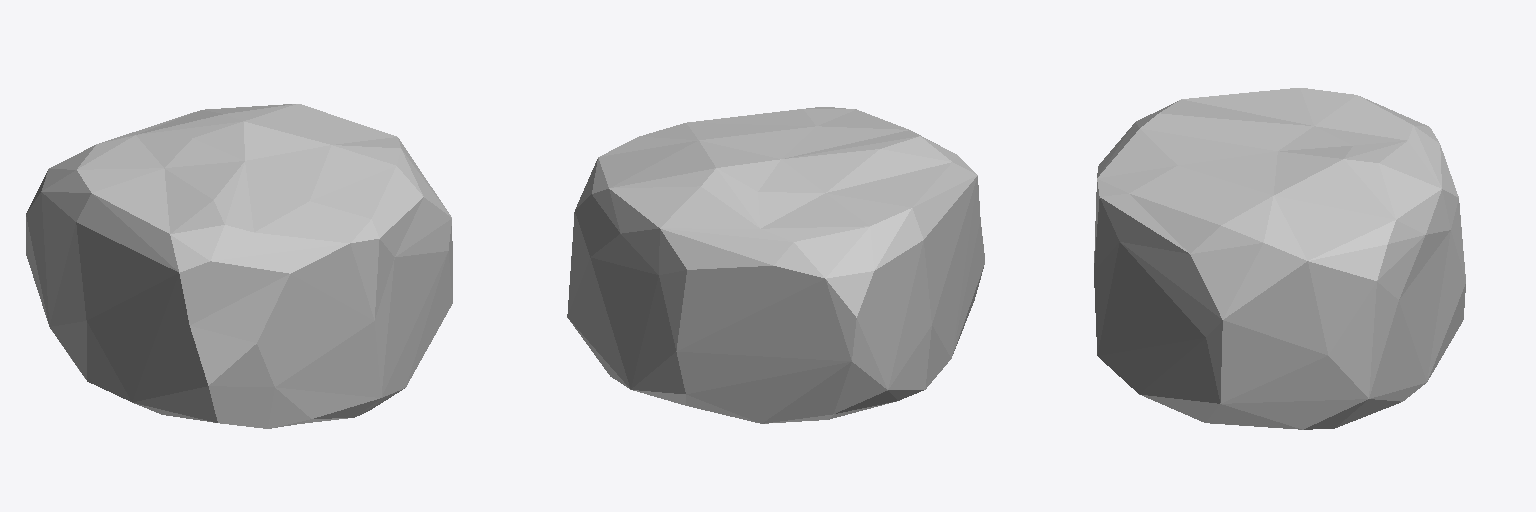
File: single_rock.obj
The picture shows the model from 3 angles: view 1: azimuth 30°, elevation 25°; view 2: azimuth 150°, elevation 25°; view 3: azimuth 270°, elevation 25°; orthographic projection.
Visible parts, largest first — view 1: smallrock5_smallrocks_0_smallrock5_smallrocks_0.001; view 2: smallrock5_smallrocks_0_smallrock5_smallrocks_0.001; view 3: smallrock5_smallrocks_0_smallrock5_smallrocks_0.001.
Boxes of the visible parts, <box> form: smallrock5_smallrocks_0_smallrock5_smallrocks_0.001: <box>26,104,452,428</box>; smallrock5_smallrocks_0_smallrock5_smallrocks_0.001: <box>567,107,984,423</box>; smallrock5_smallrocks_0_smallrock5_smallrocks_0.001: <box>1094,88,1465,429</box>.
Size of the model in its own units: 0.9401 by 0.5701 by 0.9034.